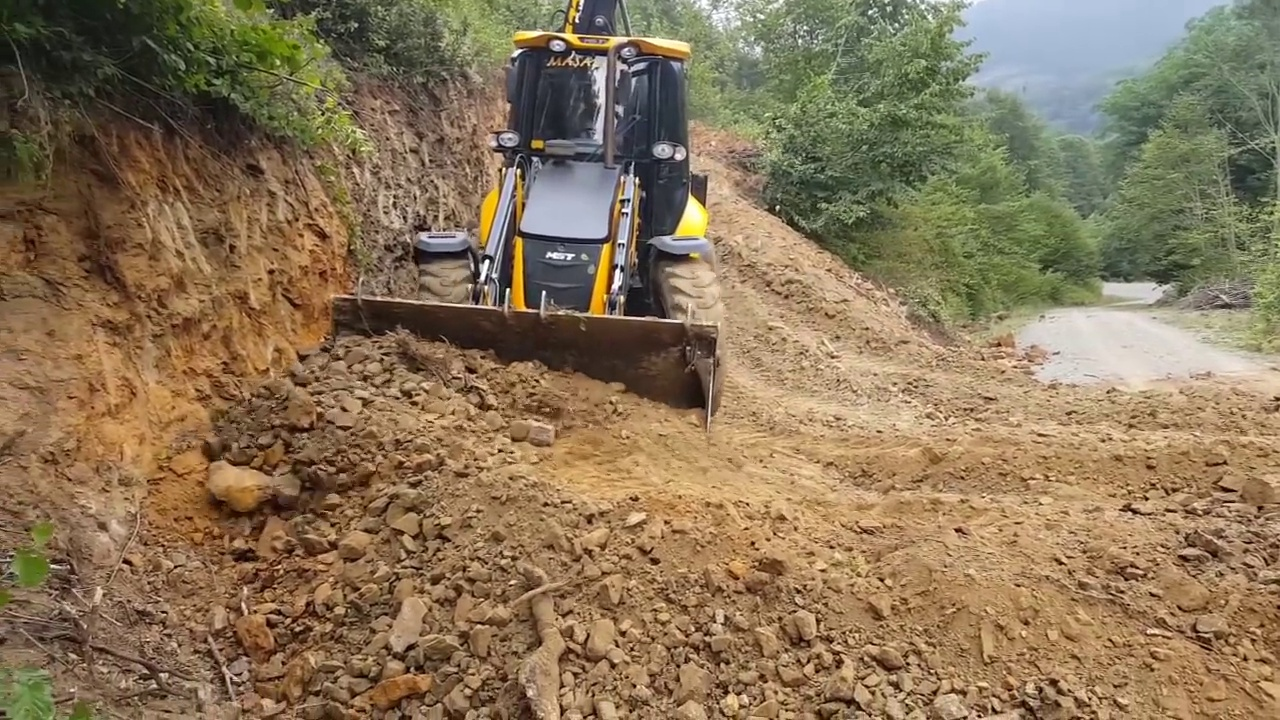wheel loader: (329, 3, 727, 451)
